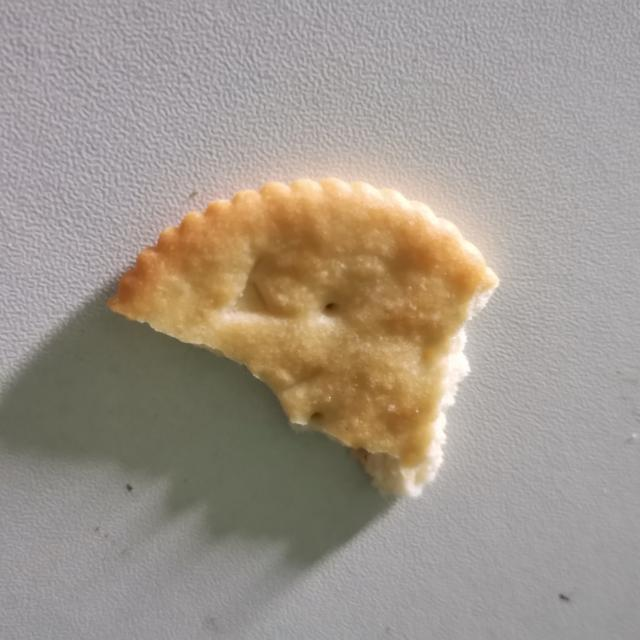Broken: (106, 175, 500, 500)
